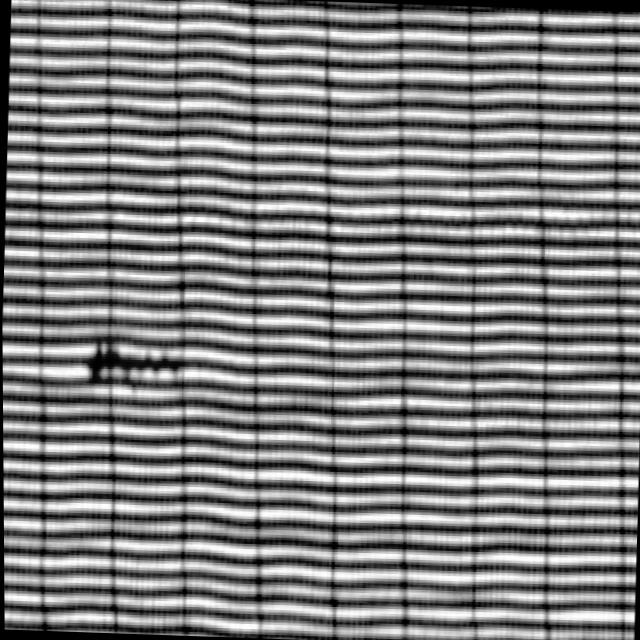Stitch: (62, 313, 202, 416)
